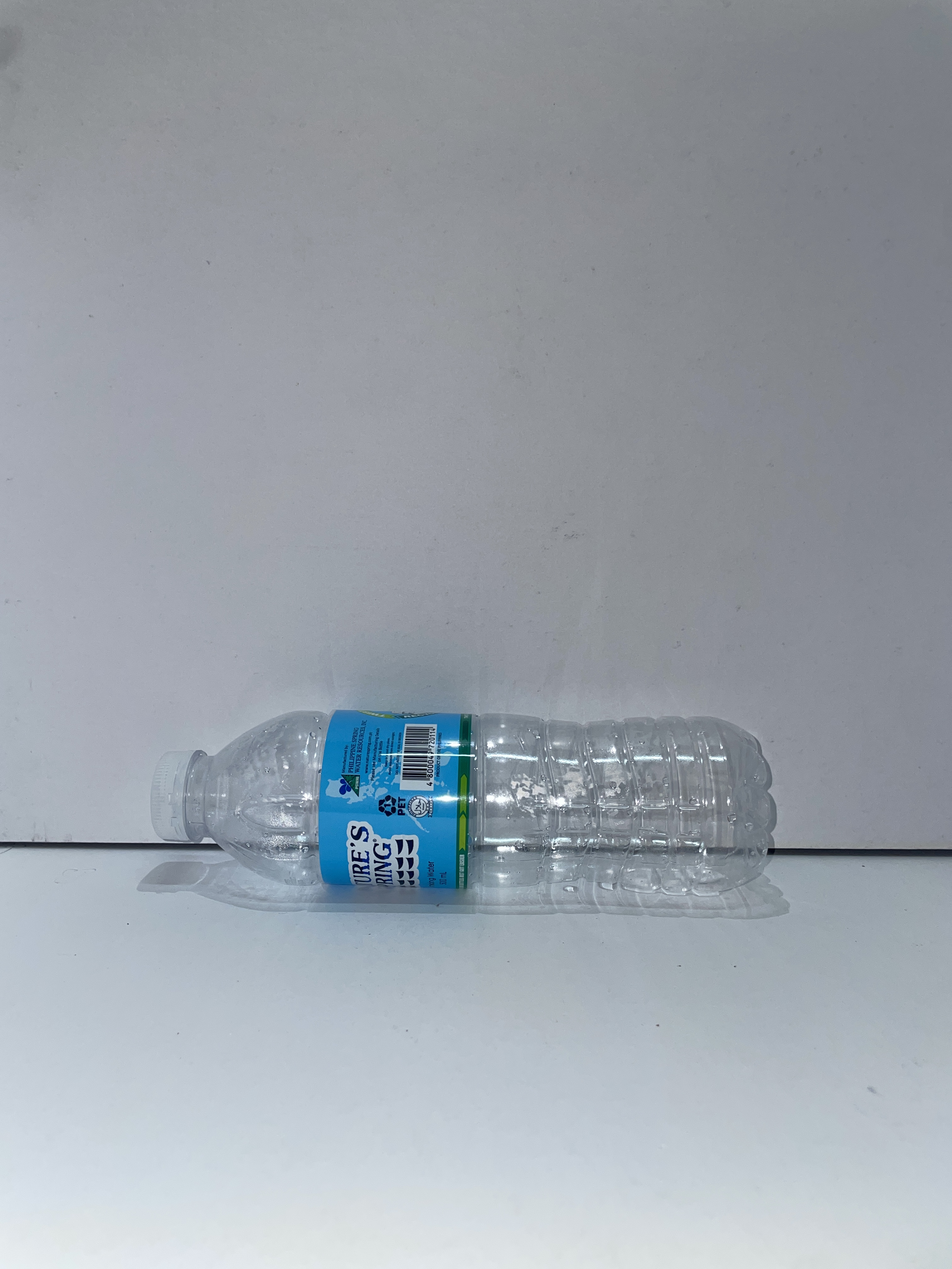natures spring 500ml: (151, 710, 775, 894)
